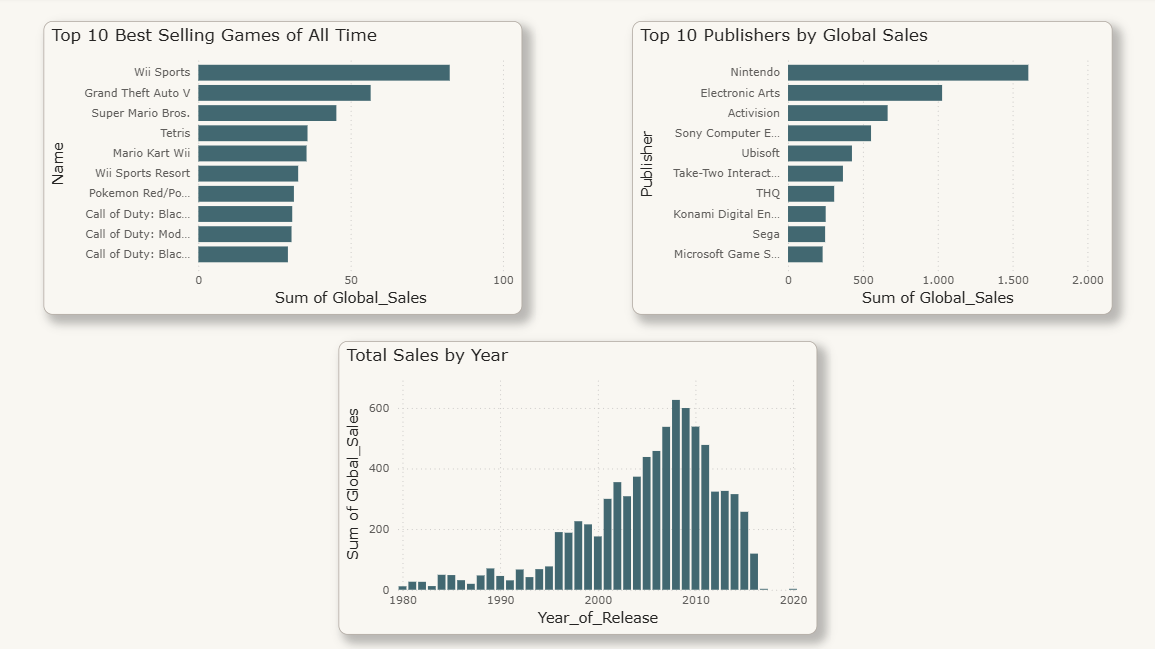

The page's visual inventory and layout, read from the dashboard file:
{"tool":"powerbi","page":{"name":"🏆 Top Games & Publishers","canvas":[1280,720],"ordinal":1},"visuals":[{"type":"clusteredBarChart","title":"Top 10 Best Selling Games of All Time","fields":{"Category":["Video_Games_Sales_as_at_22_Dec_2016.Name"],"Y":["Sum(Video_Games_Sales_as_at_22_Dec_2016.Global_Sales)"]},"box":[52.1,27.4,525.6,322.5],"z":0},{"type":"clusteredBarChart","title":"Top 10 Publishers by Global Sales","fields":{"Category":["Video_Games_Sales_as_at_22_Dec_2016.Publisher"],"Y":["Sum(Video_Games_Sales_as_at_22_Dec_2016.Global_Sales)"]},"box":[698.5,27.4,526.9,322.5],"z":1000},{"type":"clusteredColumnChart","title":"Total Sales by Year","fields":{"Category":["Video_Games_Sales_as_at_22_Dec_2016.Year_of_Release"],"Y":["Sum(Video_Games_Sales_as_at_22_Dec_2016.Global_Sales)"]},"box":[376,378.7,525.6,322.5],"z":2000}]}

Visuals, with their boxes in screenshot pixels (x1, y1, x2, y2), scaled from the page's 1280x720 canvas onto the 1155x649 screenshot:
"Top 10 Best Selling Games of All Time" clusteredBarChart: box(47, 25, 521, 315)
"Top 10 Publishers by Global Sales" clusteredBarChart: box(630, 25, 1106, 315)
"Total Sales by Year" clusteredColumnChart: box(339, 341, 814, 632)
